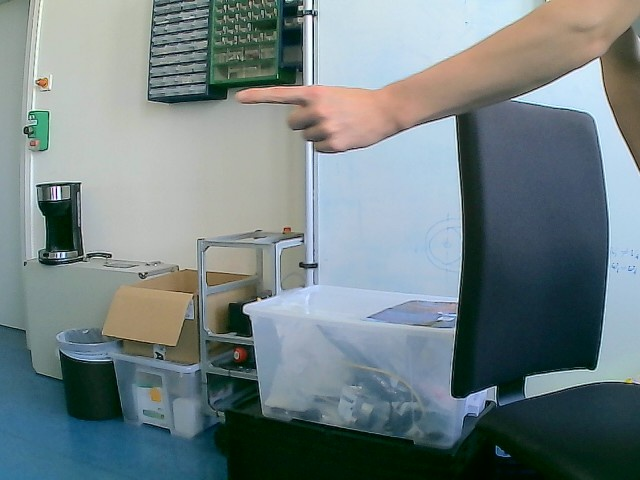right: (235, 83, 398, 155)
